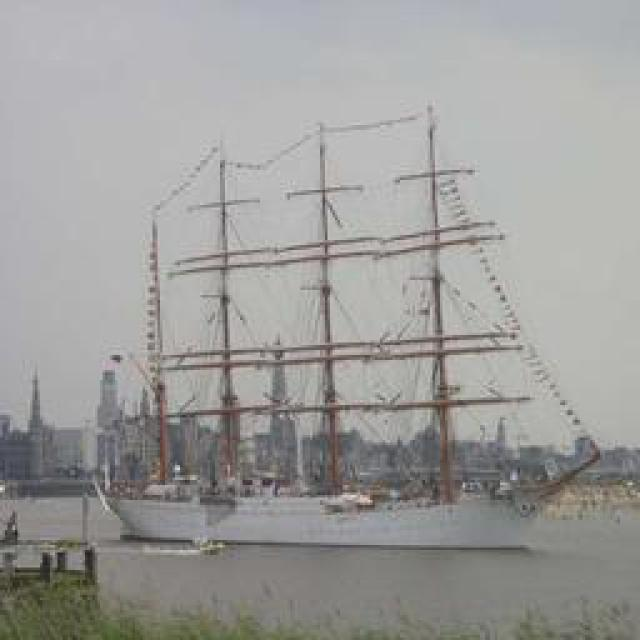Ship: (100, 107, 605, 540)
